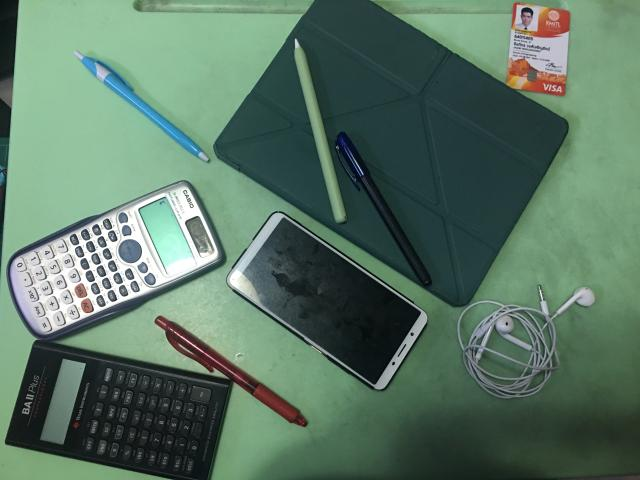Mobile phone: (226, 211, 428, 390)
Pen: (155, 316, 306, 426), (335, 131, 431, 286), (74, 51, 209, 161)
wire: (458, 285, 595, 399)
